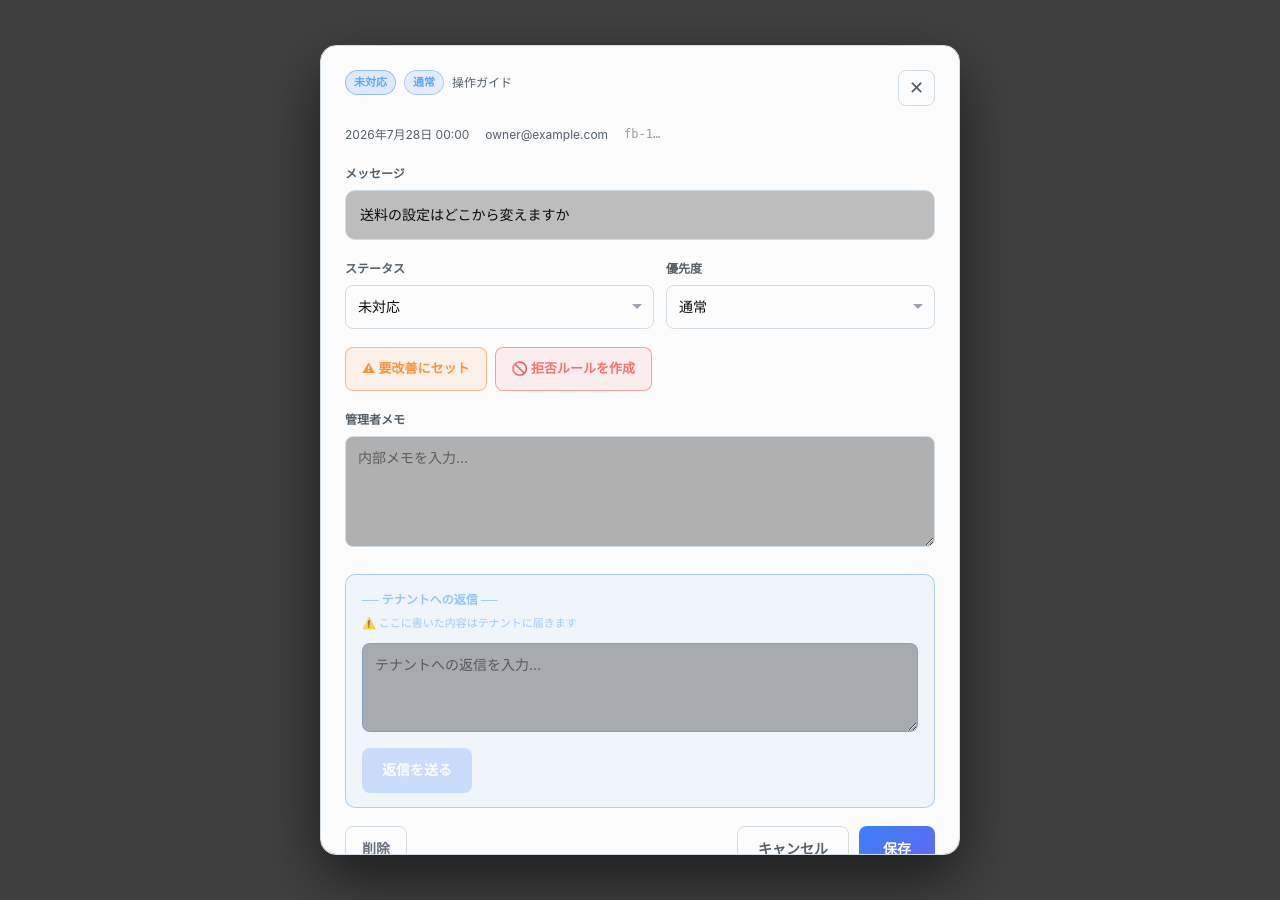
it: DetailModal — テナントへの返信 › 返信を送ると POST /:id/reply が呼ばれ、送信済みの返信として表示される
The image size is (1280, 900).
Type "設定ページから変更できます" into the text box with placeholder "テナントへの返信を入力...".
click(640, 688); type("設定ページから変更できます")  # box 362,643 -> 918,732
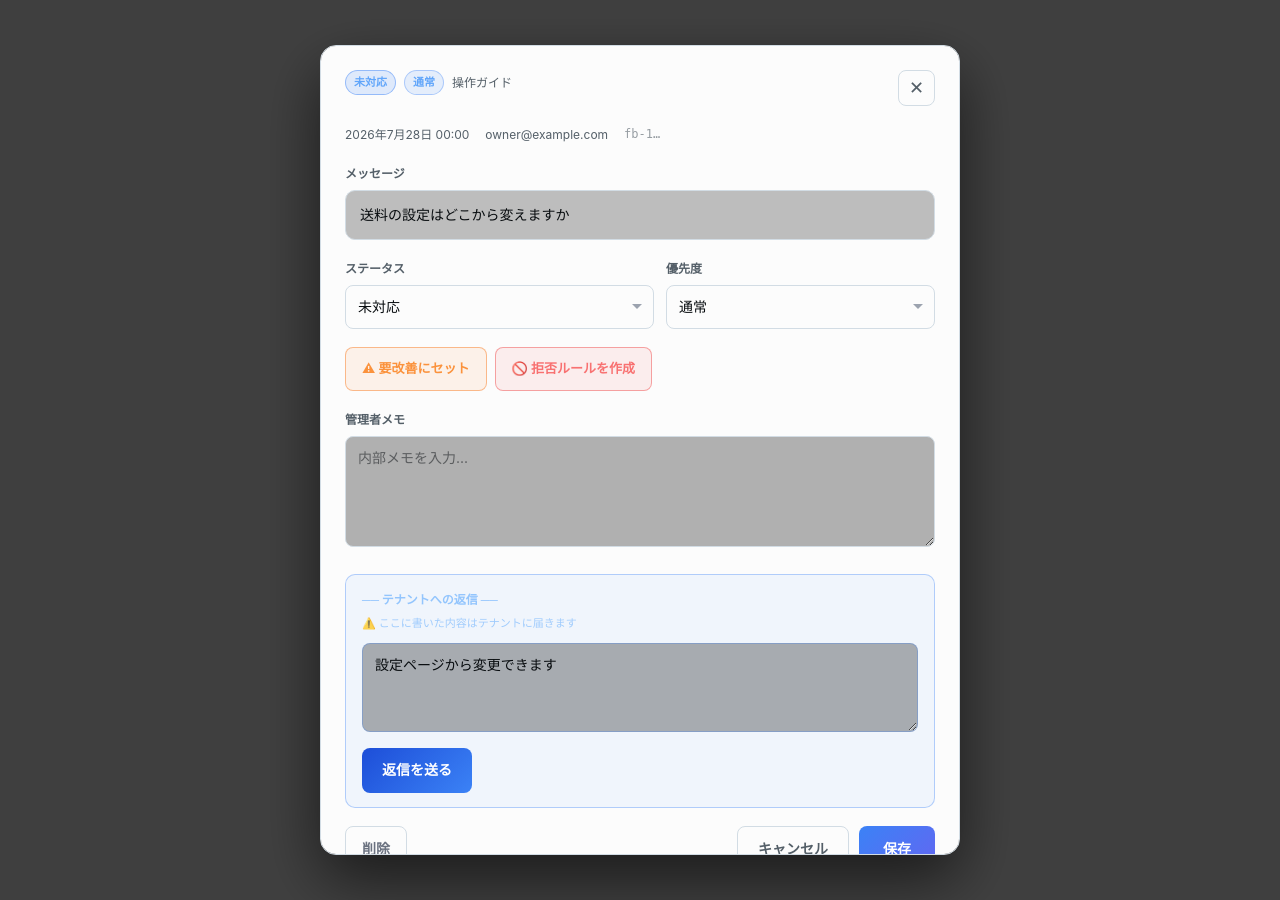
Click the button "返信を送る".
click(417, 771)  # box 362,748 -> 472,793
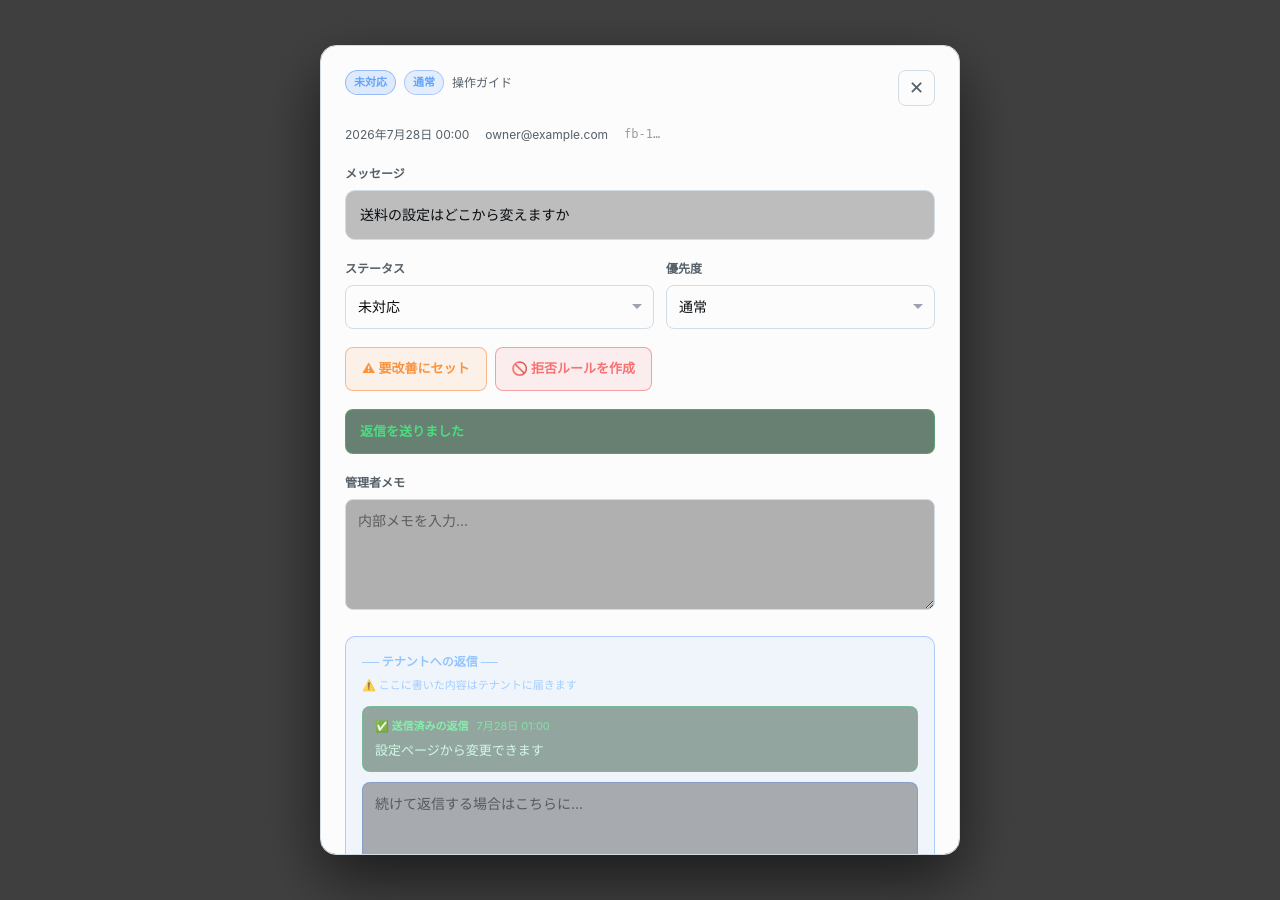
expect the text "✅ 送信済みの返信" is shown: met, box 375,719 -> 468,733
expect the text "設定ページから変更できます" is shown: met, box 375,742 -> 544,758
